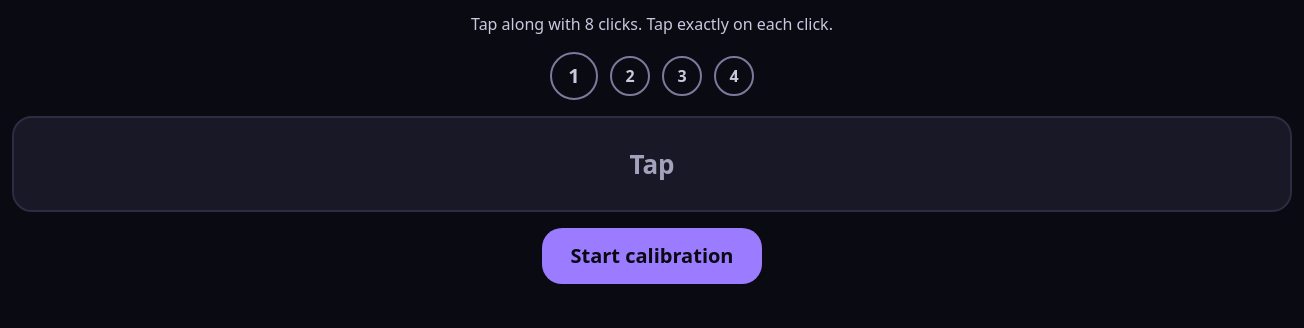
Test: LatencyCalibration › asks to try again, without calling back, when too few taps were heard
Click the button "Start calibration": [652, 256] box [542, 228, 762, 284]
Wait 4600 ms
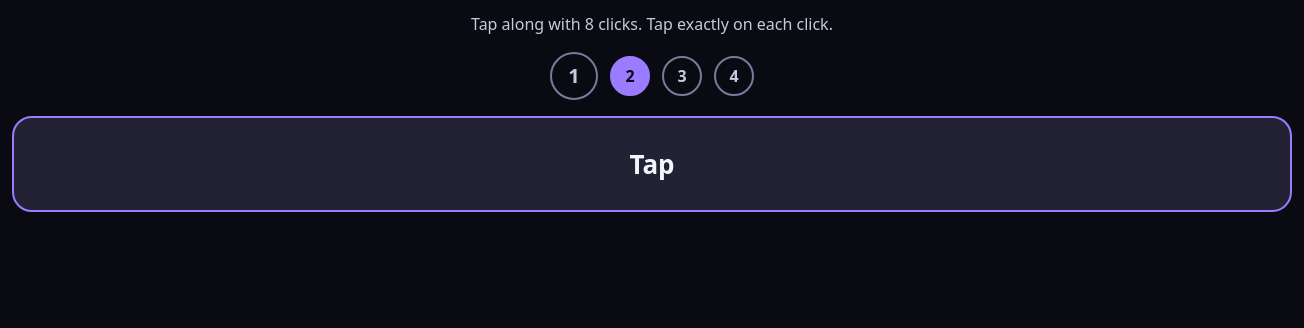
Press the mouse on the button with test id "tap-target": [652, 164] box [12, 116, 1292, 212]
Wait 1550 ms
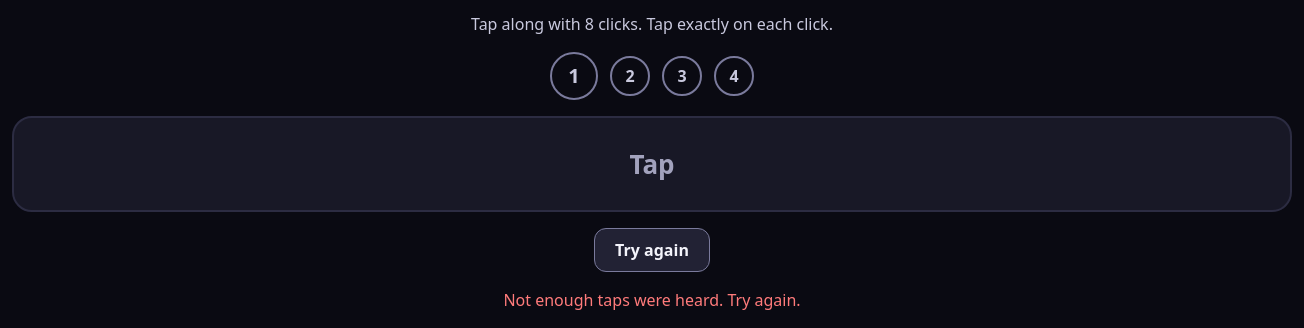
Expected: the text "Not enough taps were heard. Try again." is shown, [503, 289, 801, 311]
Expected: the button "Try again" is shown, [594, 228, 710, 272]
